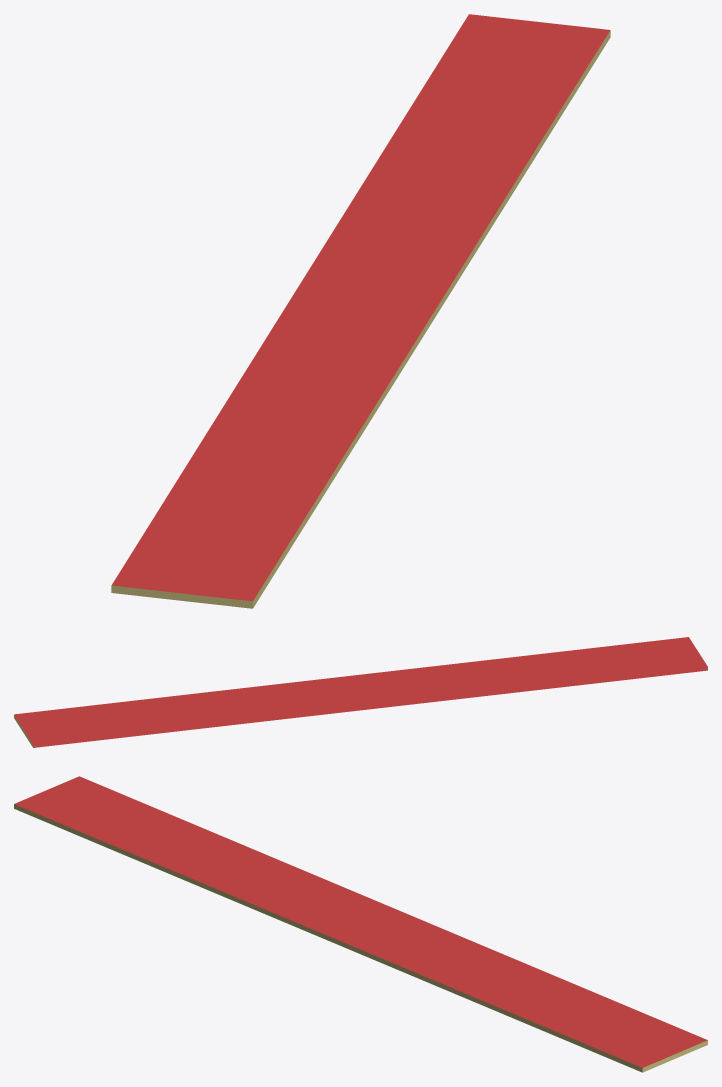
The picture shows the model from 3 angles, top to bottom: view 1: azimuth 30°, elevation 25°; view 2: azimuth 150°, elevation 25°; view 3: azimuth 270°, elevation 25°; orthographic projection. The views are drawn at different scales.
Bounding box in the file's own units: 13.27 × 13.34 × 0.1.
